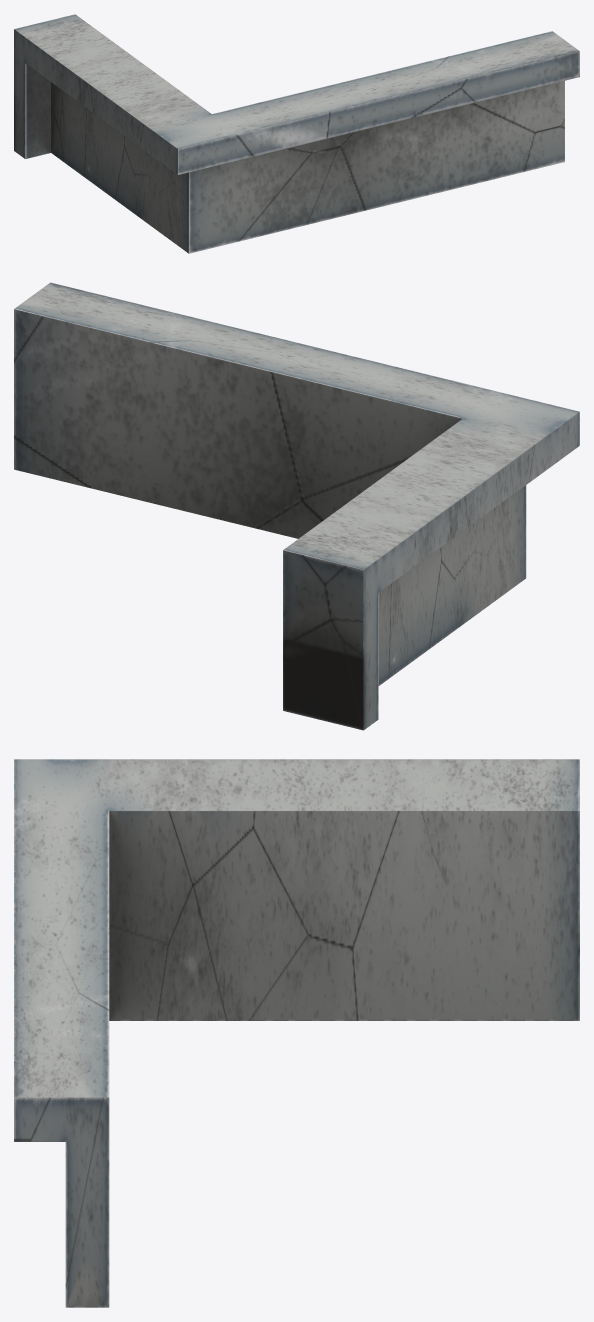
Rendered from Barra_Pedidos_V2.glb.
The picture shows the model from 3 angles, top to bottom: view 1: azimuth 30°, elevation 25°; view 2: azimuth 150°, elevation 25°; view 3: azimuth 270°, elevation 25°; orthographic projection. The views are drawn at different scales.
Visible parts, largest first — view 1: Barra_Pedidos_V2; view 2: Barra_Pedidos_V2; view 3: Barra_Pedidos_V2.
Boxes of the visible parts, box(x1,y1,x2,y2) form: Barra_Pedidos_V2: box(14, 14, 579, 253); Barra_Pedidos_V2: box(14, 282, 579, 730); Barra_Pedidos_V2: box(14, 759, 579, 1307).
Size of the model in its own units: 4.47 by 1.29 by 3.16.
Materials: 1 (1 with a texture image).
